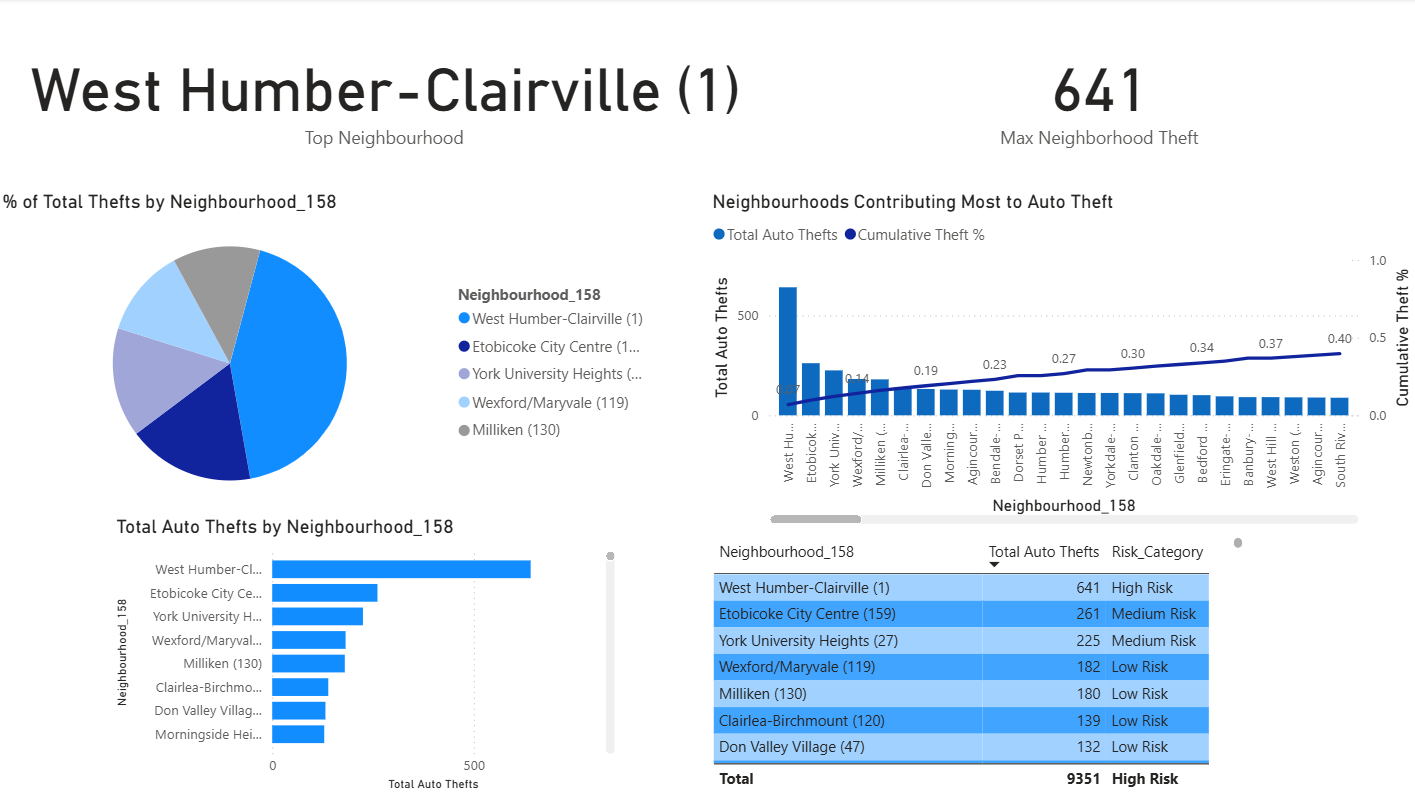

What the dashboard file says about the page in this screenshot:
{"tool":"powerbi","page":{"name":"Which neighborhoods have the highest auto thefts?","canvas":[1280,720],"ordinal":2},"visuals":[{"type":"card","fields":{"Values":["Autotheft2024.Max Neighborhood Theft"]},"box":[708,0,572.5,174],"z":0},{"type":"clusteredBarChart","fields":{"Category":["Dim_Neighbourhood.Neighbourhood_158"],"Y":["Autotheft2024.Total Auto Thefts"]},"box":[102.3,466.3,459.6,253.7],"z":1000},{"type":"tableEx","fields":{"Values":["Dim_Neighbourhood.Neighbourhood_158","Autotheft2024.Total Auto Thefts","Autotheft2024.Risk_Category"]},"box":[640.2,481.3,488,238.9],"z":2000},{"type":"card","fields":{"Values":["Autotheft2024.Top Neighbourhood"]},"box":[0,0,698.7,174],"z":3000},{"type":"pieChart","fields":{"Category":["Dim_Neighbourhood.Neighbourhood_158"],"Y":["Autotheft2024.% of Total Thefts"]},"box":[0,173.6,597.4,293.1],"z":4000},{"type":"lineClusteredColumnComboChart","title":"Neighbourhoods Contributing Most to Auto Theft","fields":{"Category":["Dim_Neighbourhood.Neighbourhood_158"],"Y":["Autotheft2024.Total Auto Thefts"],"Y2":["Autotheft2024.Cumulative Theft %"]},"box":[640.2,173.6,640.2,305.4],"z":5000}]}

Visuals, with their boxes in screenshot pixels (x1, y1, x2, y2), scaled from the page's 1280x720 canvas onto the 1415x796 screenshot:
card - Autotheft2024.Max Neighborhood Theft: Rect(783, 0, 1414, 192)
clusteredBarChart - Dim_Neighbourhood.Neighbourhood_158 x Autotheft2024.Total Auto Thefts: Rect(113, 516, 621, 795)
tableEx - Dim_Neighbourhood.Neighbourhood_158 x Autotheft2024.Total Auto Thefts: Rect(708, 532, 1247, 795)
card - Autotheft2024.Top Neighbourhood: Rect(0, 0, 772, 192)
pieChart - Dim_Neighbourhood.Neighbourhood_158 x Autotheft2024.% of Total Thefts: Rect(0, 192, 660, 516)
"Neighbourhoods Contributing Most to Auto Theft" lineClusteredColumnComboChart: Rect(708, 192, 1414, 530)
